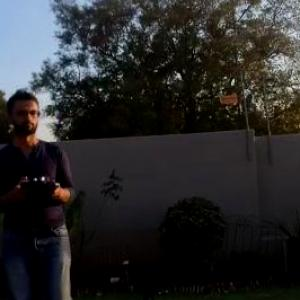follow: (1, 90, 82, 299)
